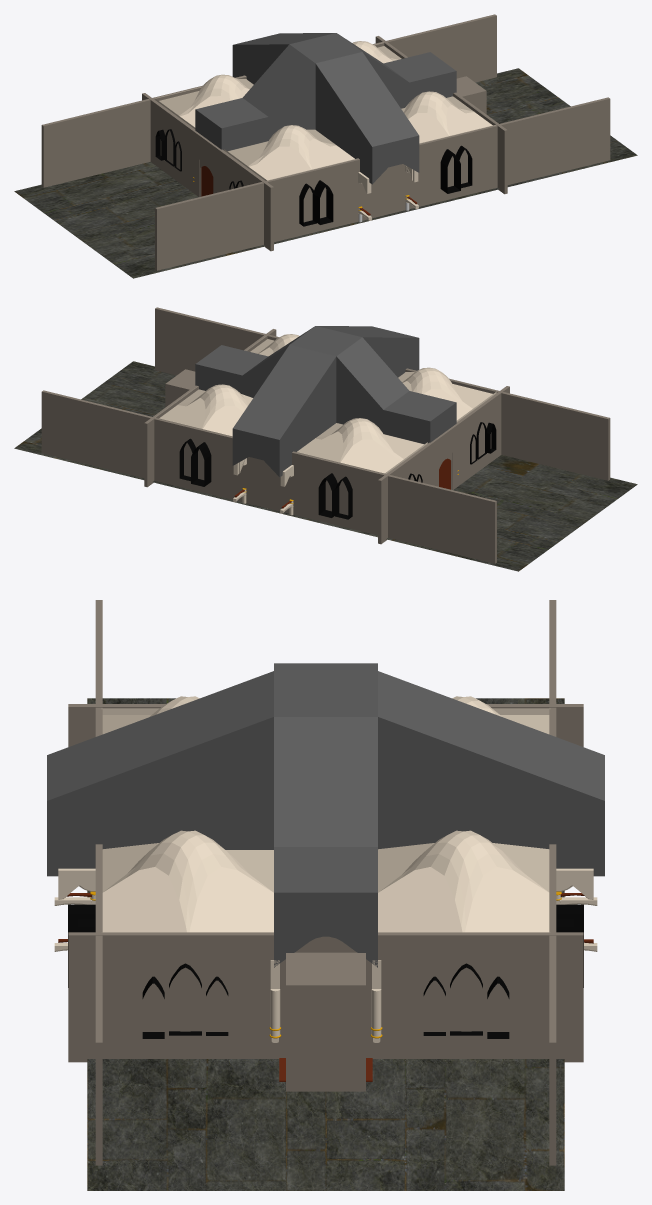
Rendered from Eglise.v2.fbx.
3 renders of one model, top to bottom at view 1: azimuth 30°, elevation 25°; view 2: azimuth 150°, elevation 25°; view 3: azimuth 270°, elevation 25°, orthographic. The views are drawn at different scales.
Visible parts, largest first — view 1: Cube.007, Cube.025, Plane, Cube.003, Cube.026, Cube.022, Cube.004, vitreaudroit.001, vitreaugauche, Cube.005; view 2: Cube.003, Cube.025, Plane, Cube.007, Cube.026, Cube.022, Cube.004, vitreaudroit.001, vitreaugauche, Cube.005; view 3: Cube.025, Plane, Cube.004, Cube.026, Cube.005, Cube.003, Cube.007, Cube.022, Cube.017, vitreaudroit.001.
Boxes of the visible parts, x1,y1,x2,y2 form: Cube.007: (155,97,610,270); Cube.025: (195,33,456,184); Plane: (14,68,637,278); Cube.003: (41,14,496,187); Cube.026: (155,41,496,180); Cube.022: (142,93,273,251); Cube.004: (375,36,507,194); vitreaudroit.001: (314,149,460,224); vitreaugauche: (299,145,472,226); Cube.005: (456,76,486,114); Cube.003: (41,390,496,563); Cube.025: (195,326,456,477); Plane: (14,361,637,571); Cube.007: (155,307,610,480); Cube.026: (155,334,496,473); Cube.022: (378,386,509,544); Cube.004: (144,329,276,487); vitreaudroit.001: (191,442,337,517); vitreaugauche: (179,438,352,519); Cube.005: (165,369,195,407); Cube.025: (47,663,604,967); Plane: (87,698,564,1190); Cube.004: (68,932,583,1062); Cube.026: (101,696,550,932); Cube.005: (286,952,365,1091); Cube.003: (549,600,556,1165); Cube.007: (95,600,102,1165); Cube.022: (68,704,583,746); Cube.017: (58,868,593,988); vitreaudroit.001: (68,904,583,987).
Bounding box in the file's own units: 32218 × 7995 × 15430.
